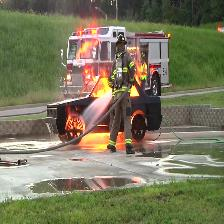fire: (74, 1, 154, 111)
